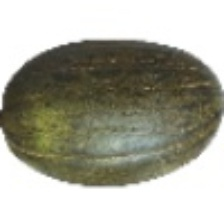honeydew: (61, 61, 200, 203)
